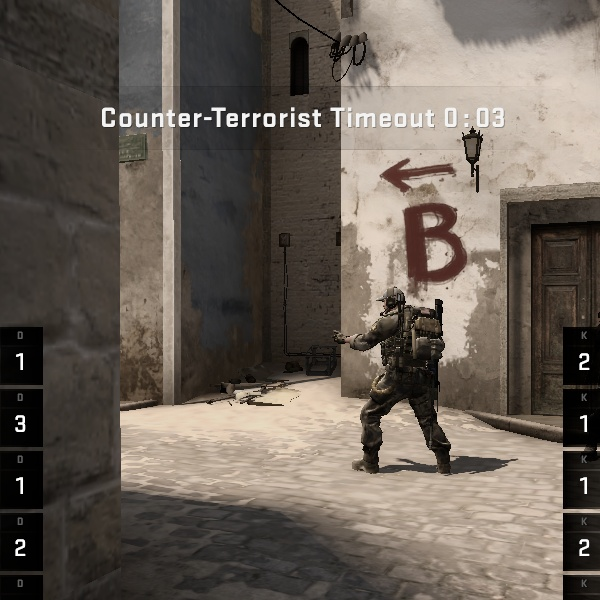ct_body: (344, 285, 451, 472)
ct_head: (371, 282, 418, 323)
